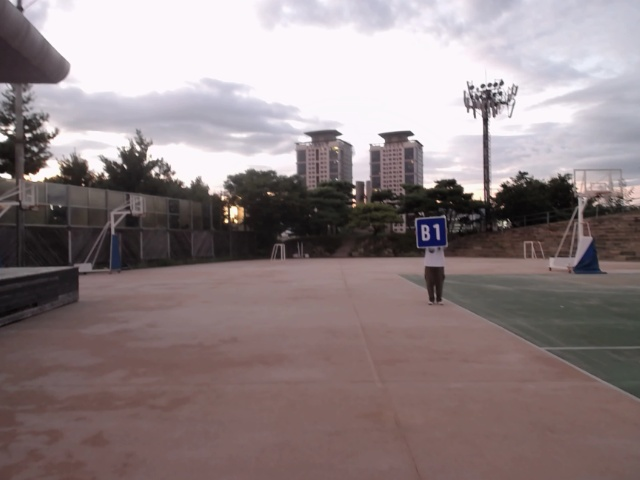delivery_b1: (417, 217, 447, 249)
